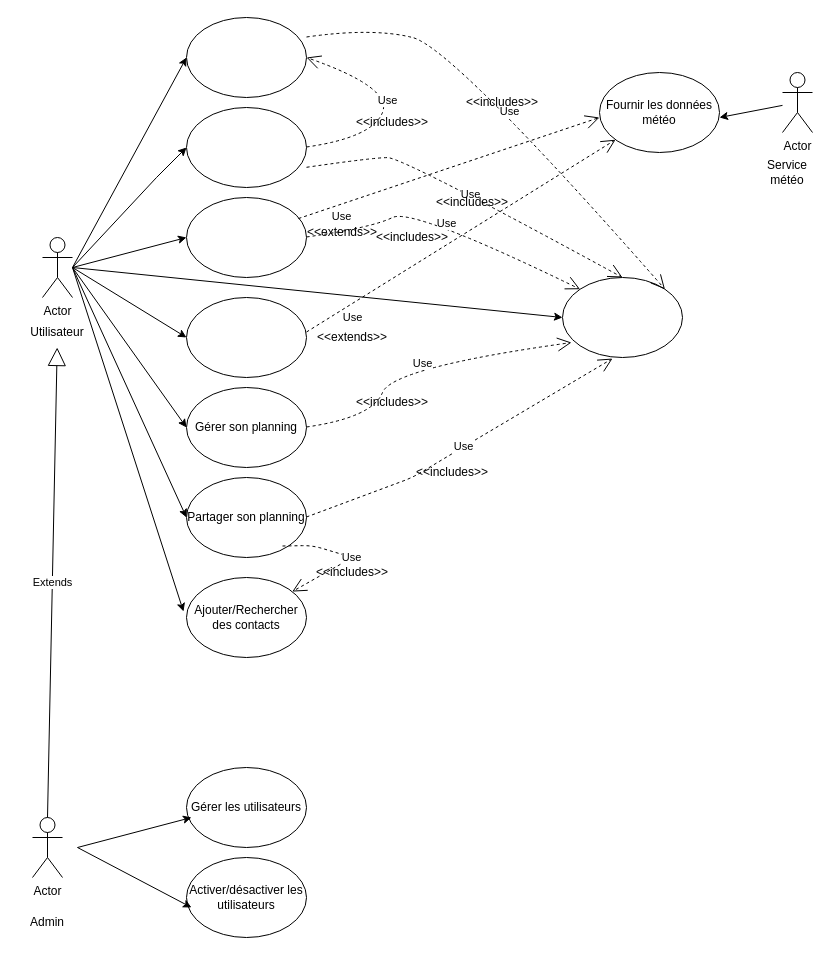
Some shapes in this 834 by 955 pixel diagram are drawn without their labels. Each missing label, with the centre of its shape:
Editer son profil: pixel 246 147
S'authentifier: pixel 622 317
Voir la météo d'une ville: pixel 246 337
Voir la météo de sa ville: pixel 246 237
Voir son profil: pixel 246 57
